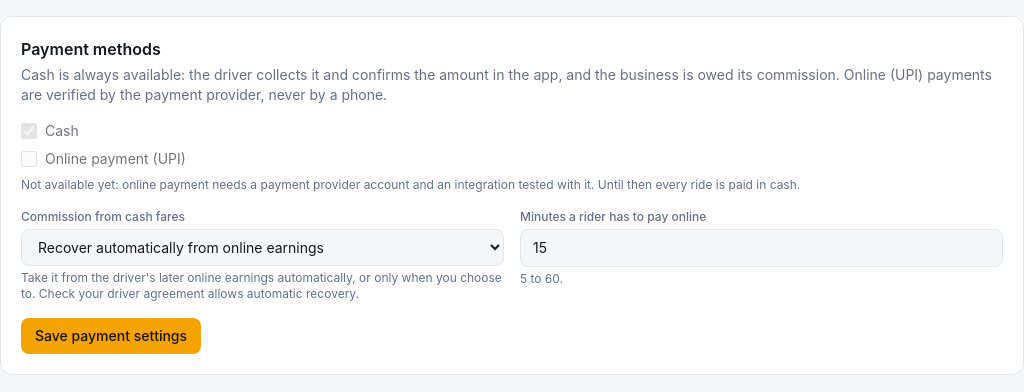
Test: payment method settings › a window outside 5 to 60 minutes is refused before anything is sent
The image size is (1024, 392).
Step 1. Replace the text in the field labelled "Minutes a rider has to pay online" with "2" → coordinates (762, 248), box [520, 229, 1003, 267]
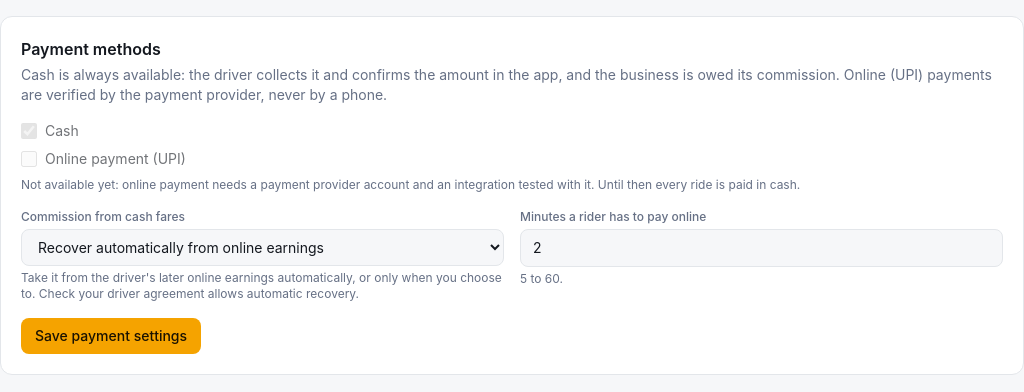
Step 2. Click the button "Save payment settings" → coordinates (111, 336), box [21, 318, 201, 354]
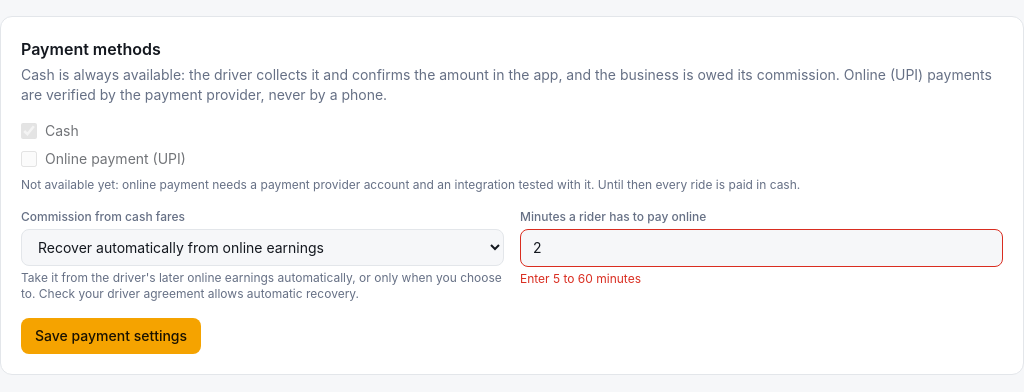
Expected: the text "Enter 5 to 60 minutes" is shown, [520, 271, 641, 286]
